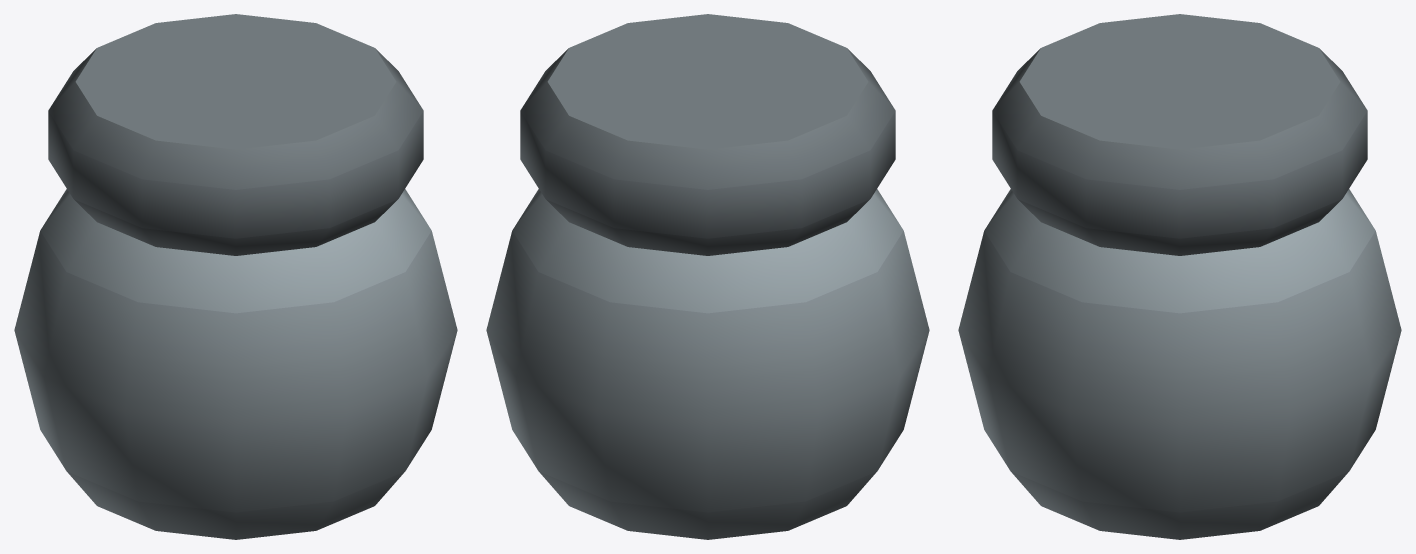
File: jar_B_small.glb
The picture shows the model from 3 angles, left to right: view 1: azimuth 30°, elevation 25°; view 2: azimuth 150°, elevation 25°; view 3: azimuth 270°, elevation 25°; orthographic projection.
Visible parts, largest first — view 1: jar_B_small; view 2: jar_B_small; view 3: jar_B_small.
Boxes of the visible parts, box(x1,y1,x2,y2) form: jar_B_small: box(14, 14, 457, 539); jar_B_small: box(486, 14, 929, 539); jar_B_small: box(958, 14, 1401, 539).
Bounding box in the file's own units: 0.566 × 0.55 × 0.566.
Materials: 1 (1 with a texture image).
